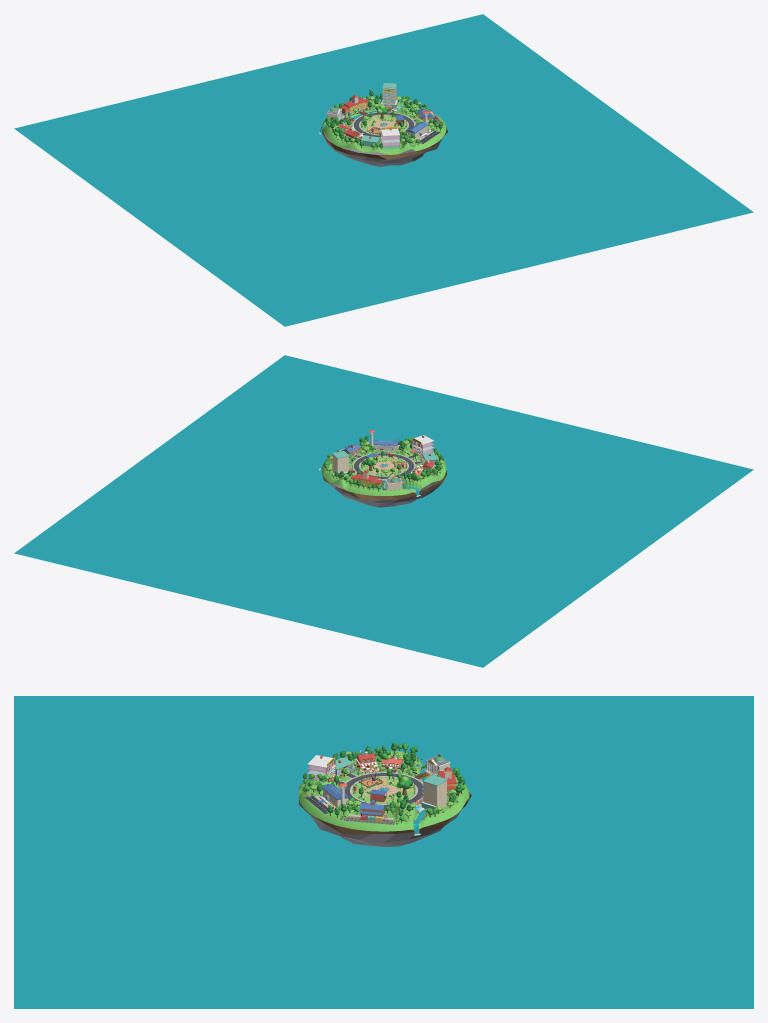
Rendered from island-lite.glb.
3 renders of one model, top to bottom at view 1: azimuth 30°, elevation 25°; view 2: azimuth 150°, elevation 25°; view 3: azimuth 270°, elevation 25°, orthographic. The views are drawn at different scales.
Visible parts, largest first — view 1: Merged_Mat_Water, Merged_Mat_Grass, Island_Rock; view 2: Merged_Mat_Water, Merged_Mat_Grass, Island_Rock, Merged_Mat_Wall_Cream; view 3: Merged_Mat_Water, Merged_Mat_Grass, Island_Rock, Merged_Mat_Wall_Cream, Merged_Mat_White, Merged_Mat_Sidewalk, Merged_Mat_Roof_Blue, Merged_Mat_Road, Merged_Mat_Grass_Light.
Boxes of the visible parts, x1,y1,x2,y2 form: Merged_Mat_Water: (14, 14, 753, 326); Merged_Mat_Grass: (321, 100, 446, 154); Island_Rock: (322, 127, 447, 166); Merged_Mat_Water: (14, 355, 753, 667); Merged_Mat_Grass: (321, 443, 446, 496); Island_Rock: (322, 464, 446, 507); Merged_Mat_Wall_Cream: (332, 445, 420, 489); Merged_Mat_Water: (14, 696, 753, 1008); Merged_Mat_Grass: (298, 751, 469, 831); Island_Rock: (298, 792, 471, 846); Merged_Mat_Wall_Cream: (323, 759, 451, 818); Merged_Mat_White: (307, 750, 450, 835); Merged_Mat_Sidewalk: (315, 764, 437, 820); Merged_Mat_Roof_Blue: (318, 760, 448, 816); Merged_Mat_Road: (337, 770, 423, 807); Merged_Mat_Grass_Light: (353, 777, 414, 803).
Bounding box in the file's own units: 520 × 71.7 × 520.
